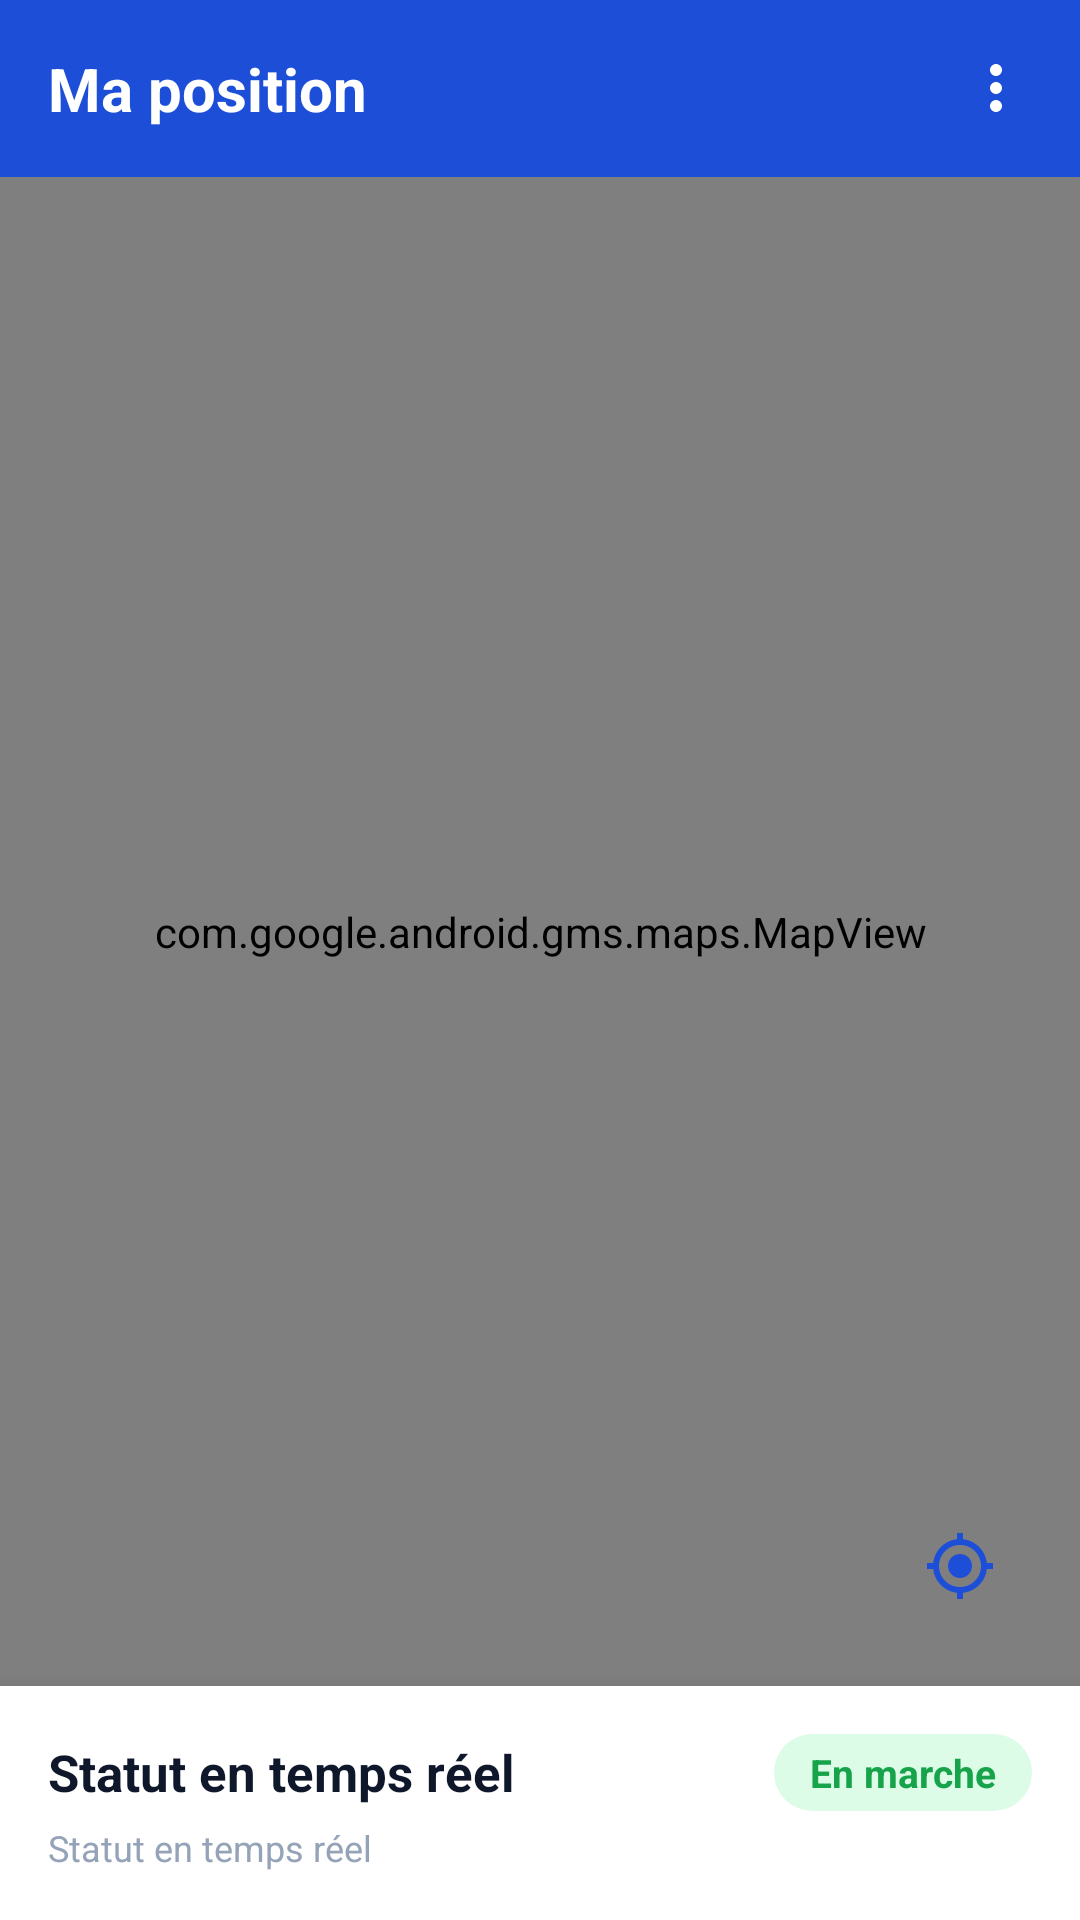

Icon click points for this 1080x1920 phone screenshot, format [x,y]:
Me localiser: [960,1566]
